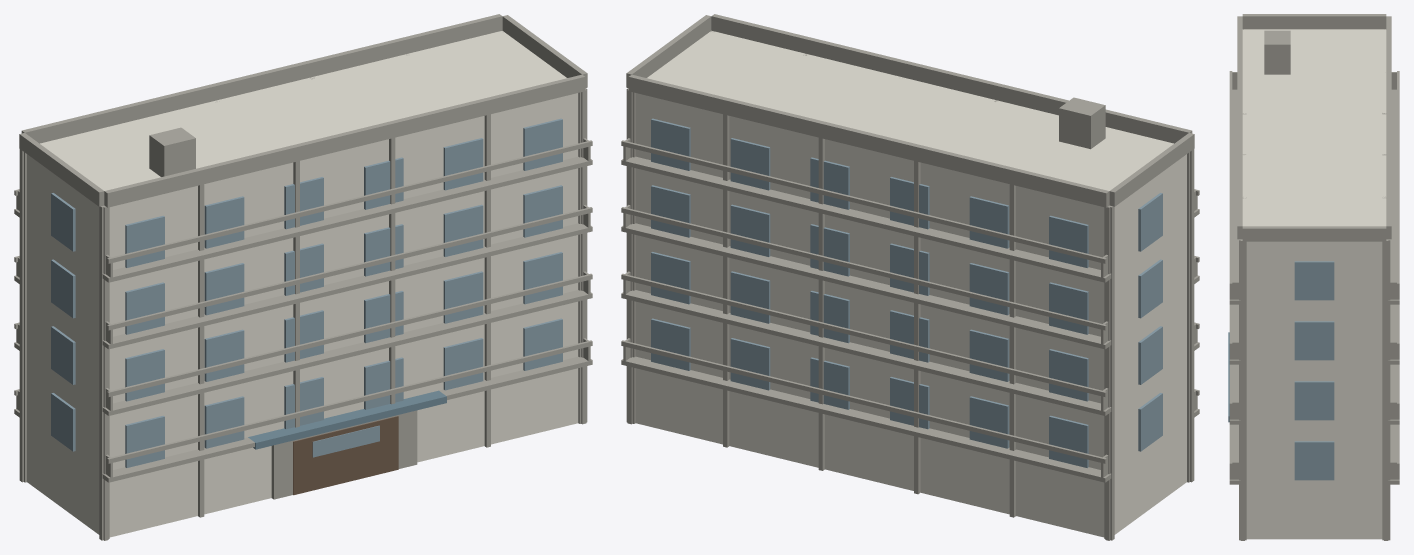
File: residential_3x1_b.glb
3 views of the same model, side by side, from view 1: azimuth 30°, elevation 25°; view 2: azimuth 150°, elevation 25°; view 3: azimuth 270°, elevation 25° (orthographic). The views are drawn at different scales.
Parts seen in each view (by area): view 1: residential_3x1_b_0; view 2: residential_3x1_b_0; view 3: residential_3x1_b_0.
Part boxes in pixels (x1,y1,x2,y2): residential_3x1_b_0: (14,14,592,540); residential_3x1_b_0: (621,14,1199,540); residential_3x1_b_0: (1228,14,1399,540).
Bounding box in the file's own units: 23 × 16.5 × 7.75.
